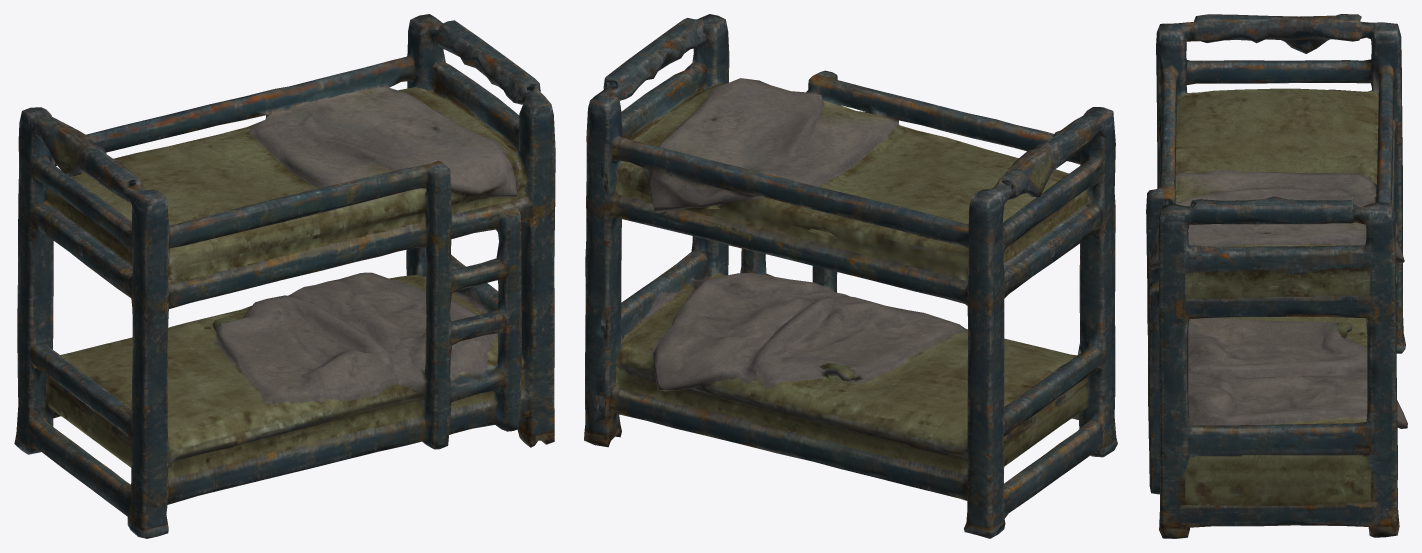
File: bunker_bunk_bed_threeview_candidate.glb
The picture shows the model from 3 angles, left to right: view 1: azimuth 30°, elevation 25°; view 2: azimuth 150°, elevation 25°; view 3: azimuth 270°, elevation 25°; orthographic projection. The views are drawn at different scales.
Visible parts, largest first — view 1: bunker_bunk_bed_threeview_candidate; view 2: bunker_bunk_bed_threeview_candidate; view 3: bunker_bunk_bed_threeview_candidate.
Boxes of the visible parts, bbox=[...] form: bunker_bunk_bed_threeview_candidate: bbox=[14, 14, 555, 538]; bunker_bunk_bed_threeview_candidate: bbox=[584, 14, 1117, 538]; bunker_bunk_bed_threeview_candidate: bbox=[1146, 14, 1407, 538].
Bounding box in the file's own units: 1.59 × 1.27 × 0.9.
1 material, 1 textured.
